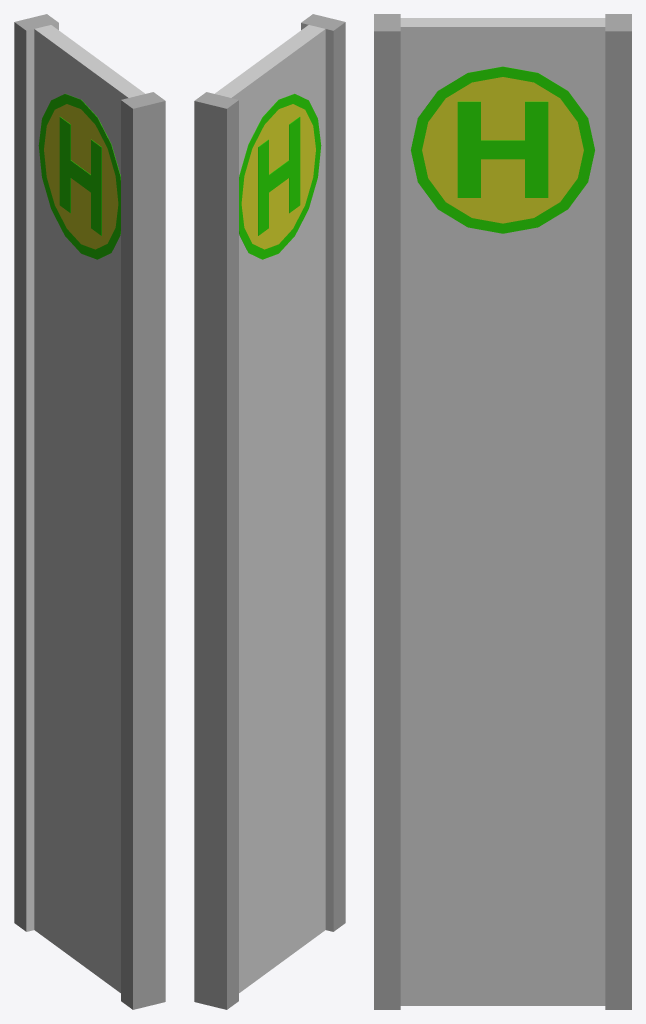
Rendered from bus_stop.glb.
The picture shows the model from 3 angles, left to right: view 1: azimuth 30°, elevation 25°; view 2: azimuth 150°, elevation 25°; view 3: azimuth 270°, elevation 25°; orthographic projection. The views are drawn at different scales.
Visible parts, largest first — view 1: Cube.001; view 2: Cube.001; view 3: Cube.001.
Part boxes in pixels (<box>): Cube.001: <box>14,14,165,1009</box>; Cube.001: <box>194,14,345,1009</box>; Cube.001: <box>374,14,631,1009</box>.
Size of the model in its own units: 0.0758 by 2 by 0.4776.
